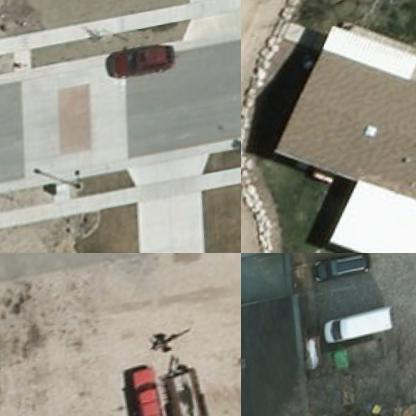car: (109, 44, 176, 84), (127, 361, 173, 415), (310, 254, 368, 288)
van: (320, 306, 393, 350)
